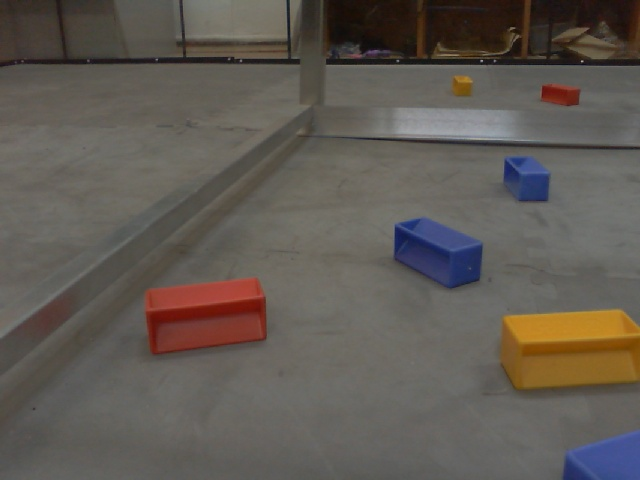BlueSample: (389, 214, 485, 288), (556, 419, 640, 477), (499, 153, 554, 205)
RedSample: (137, 275, 272, 355), (538, 83, 581, 109)
YellowSample: (500, 306, 640, 392), (452, 74, 475, 98)
